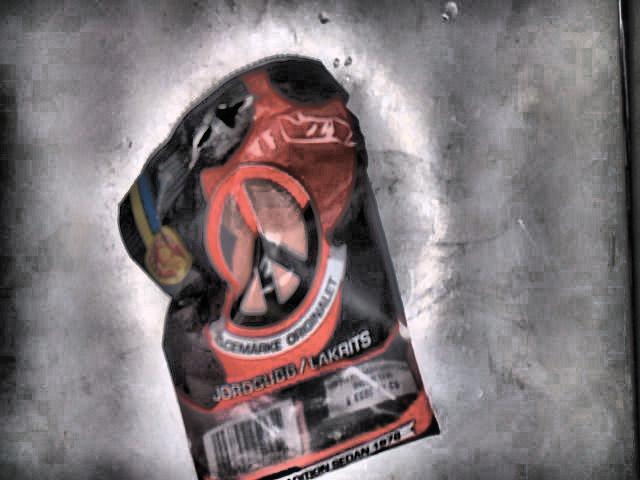Plastic: (116, 56, 444, 480)
